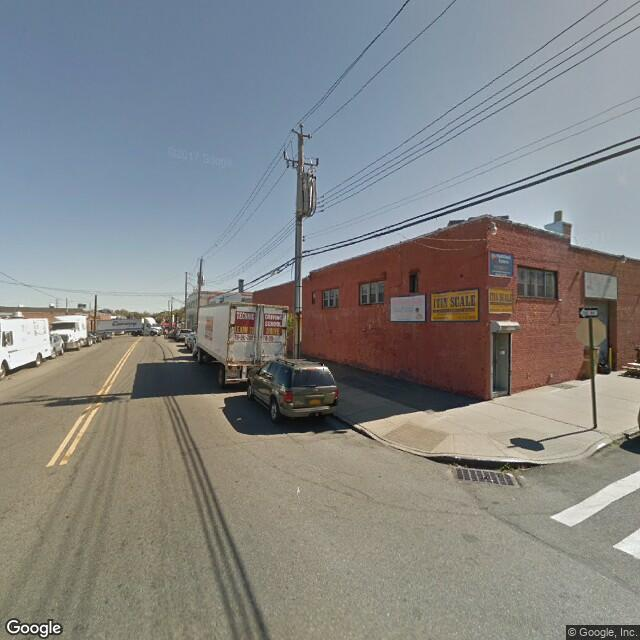litter: (233, 414, 244, 425), (293, 483, 303, 493)
